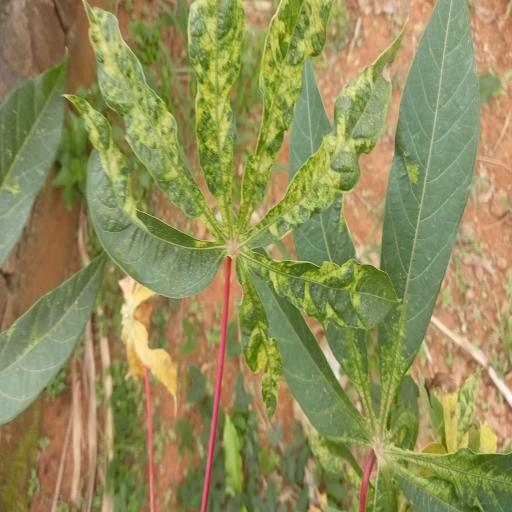Cassava_Mosaic: (67, 1, 403, 430), (248, 0, 512, 512)
